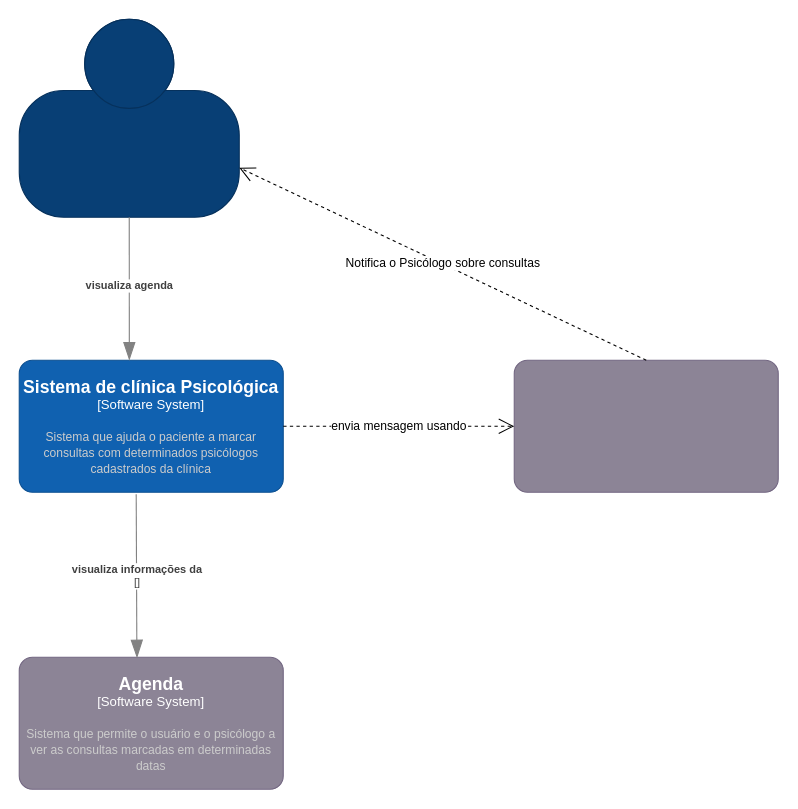
This 798x809 diagram has some shape labels left out. Each missing label, with the box of its shape:
Psicólogo [Person] Psicólogo que atende em uma determinada clínica: (18, 18, 239, 217)
WhatsApp API. [Software System] API que envia mensagens pelo Whatsapp: (513, 359, 778, 492)
